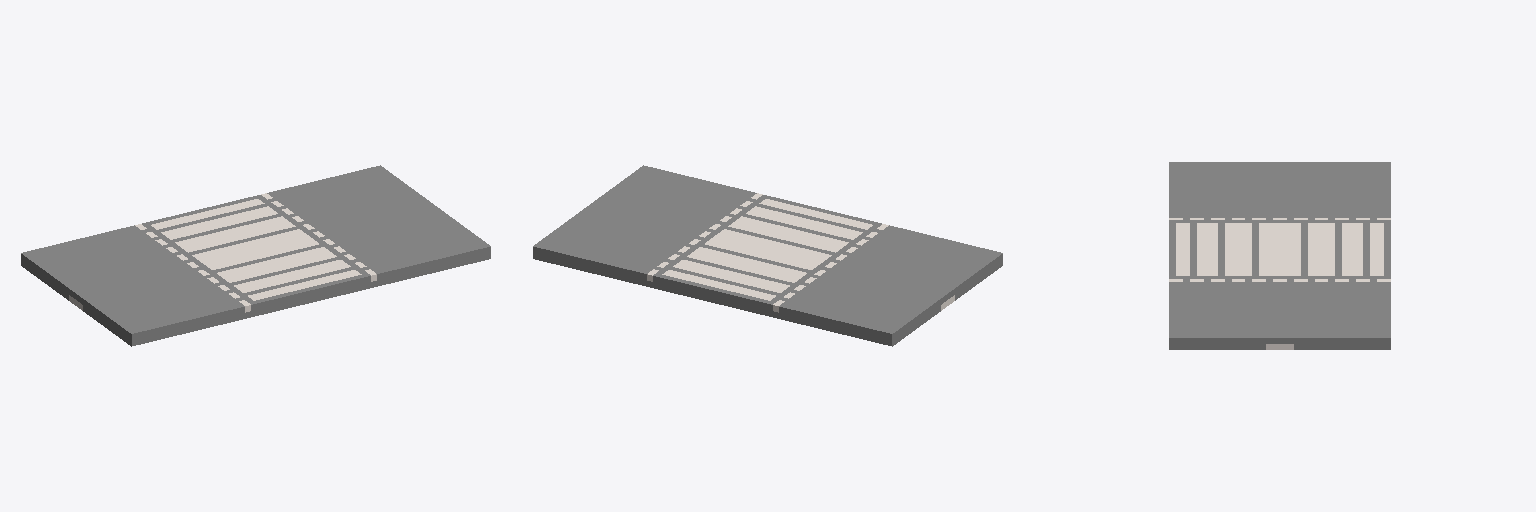
3 views of the same model, side by side, from view 1: azimuth 30°, elevation 25°; view 2: azimuth 150°, elevation 25°; view 3: azimuth 270°, elevation 25° (orthographic).
Parts seen in each view (by area): view 1: Model; view 2: Model; view 3: Model.
Part boxes in pixels (x1,y1,x2,y2): Model: (21, 165, 490, 346); Model: (533, 165, 1002, 346); Model: (1169, 162, 1390, 349).
Size of the model in its own units: 32 by 1.07 by 17.07.
Materials: 1 (1 with a texture image).